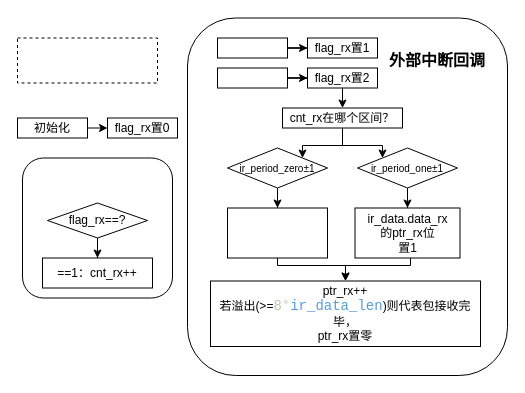
Image size: 525x393. Some labels were removed from this diagram. Here are the shapes that lost their labels. From the top down, the box of each, then its label:
(16, 37, 158, 83): 接收口电路设计为常态低电平，收到红外为高电平
(216, 37, 288, 58): 收到上升沿
(216, 67, 288, 88): 收到下降沿
(22, 157, 172, 298): 时钟中断回调 频率：36kHZ
(226, 207, 328, 258): ir_data.data_rx 的ptr_rx位 置0
